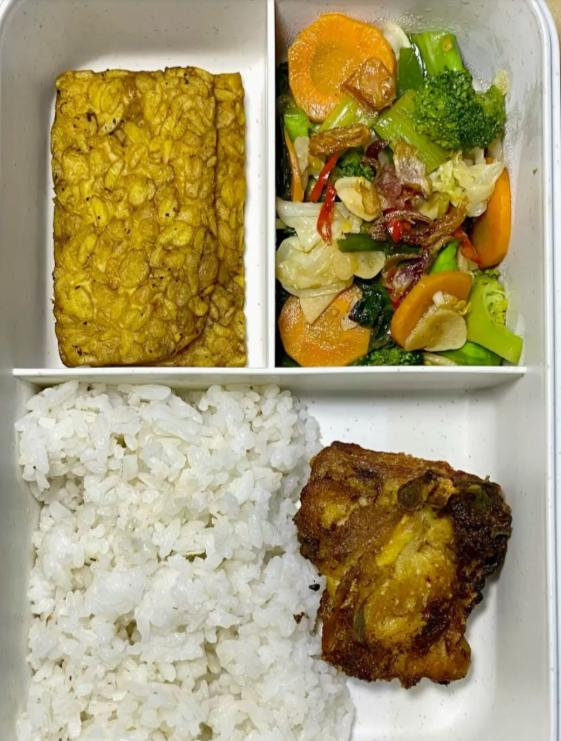buah_sayur_vitA: (284, 30, 504, 354)
daging: (327, 470, 476, 655)
kacang_legume: (62, 79, 199, 338)
makanan_berpati: (33, 398, 288, 738)
